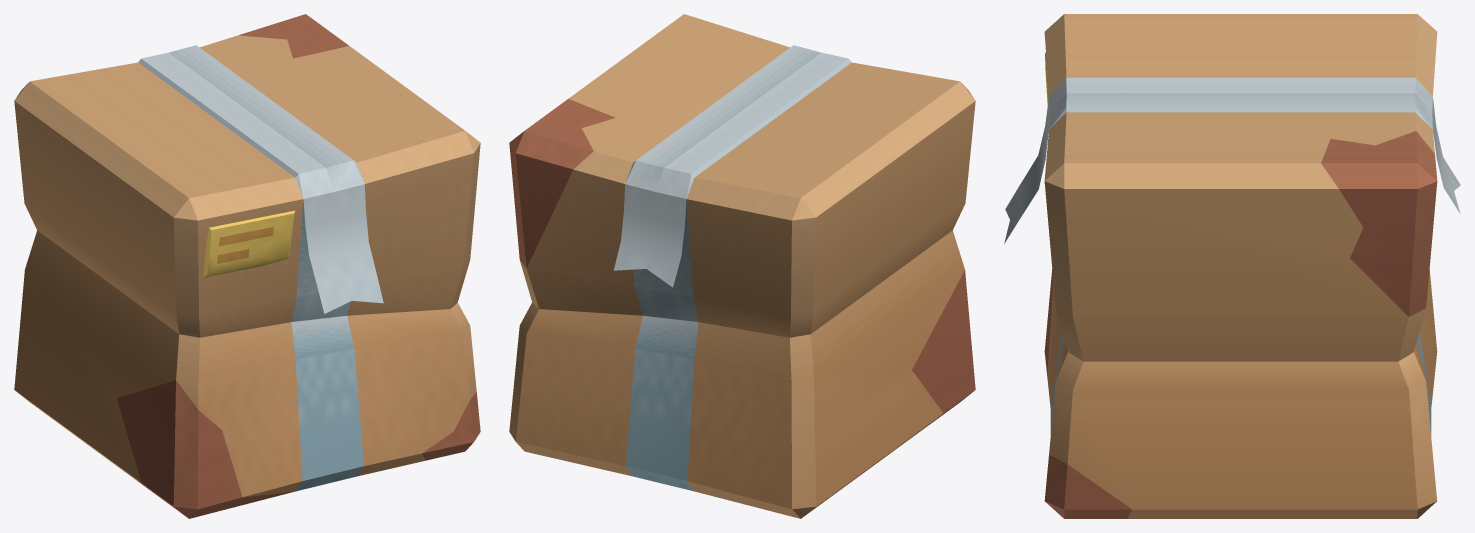
Rendered from Containers_Box_Large_Dirty.gltf.
3 renders of one model, left to right at view 1: azimuth 30°, elevation 25°; view 2: azimuth 150°, elevation 25°; view 3: azimuth 270°, elevation 25°, orthographic. The views are drawn at different scales.
Visible parts, largest first — view 1: Containers_Box_Large_Dirty; view 2: Containers_Box_Large_Dirty; view 3: Containers_Box_Large_Dirty.
Part boxes in pixels (<box>): Containers_Box_Large_Dirty: <box>14,14,480,518</box>; Containers_Box_Large_Dirty: <box>509,14,975,518</box>; Containers_Box_Large_Dirty: <box>1004,14,1460,518</box>.
Size of the model in its own units: 0.75 by 0.7493 by 0.8726.
1 material, 1 textured.
